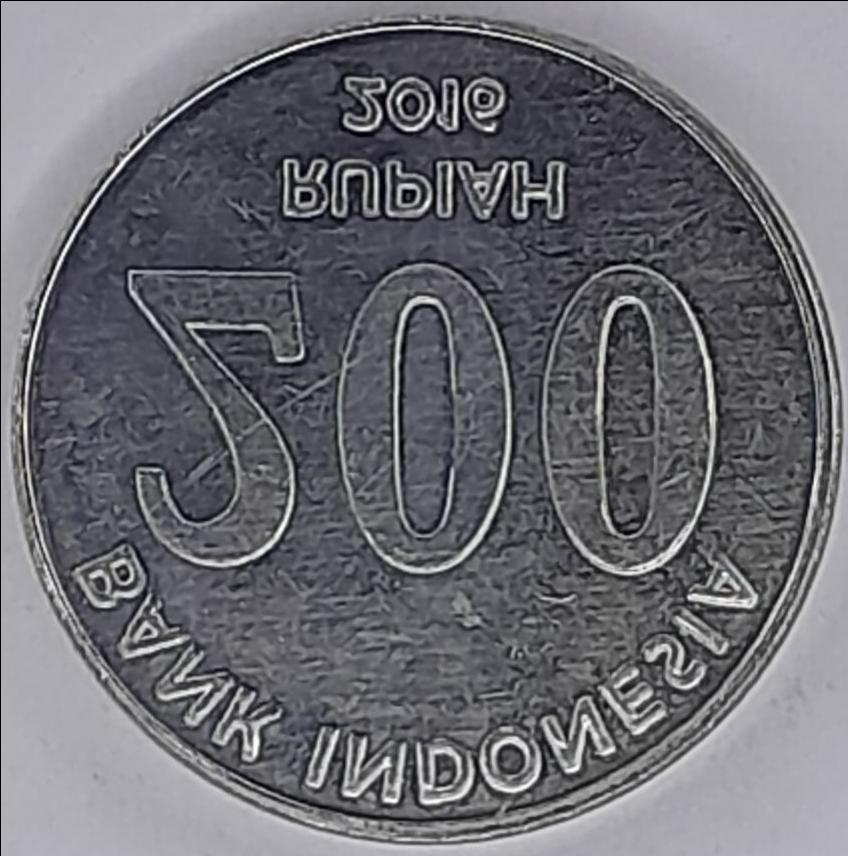coin_200_e2016: (0, 15, 848, 856)
